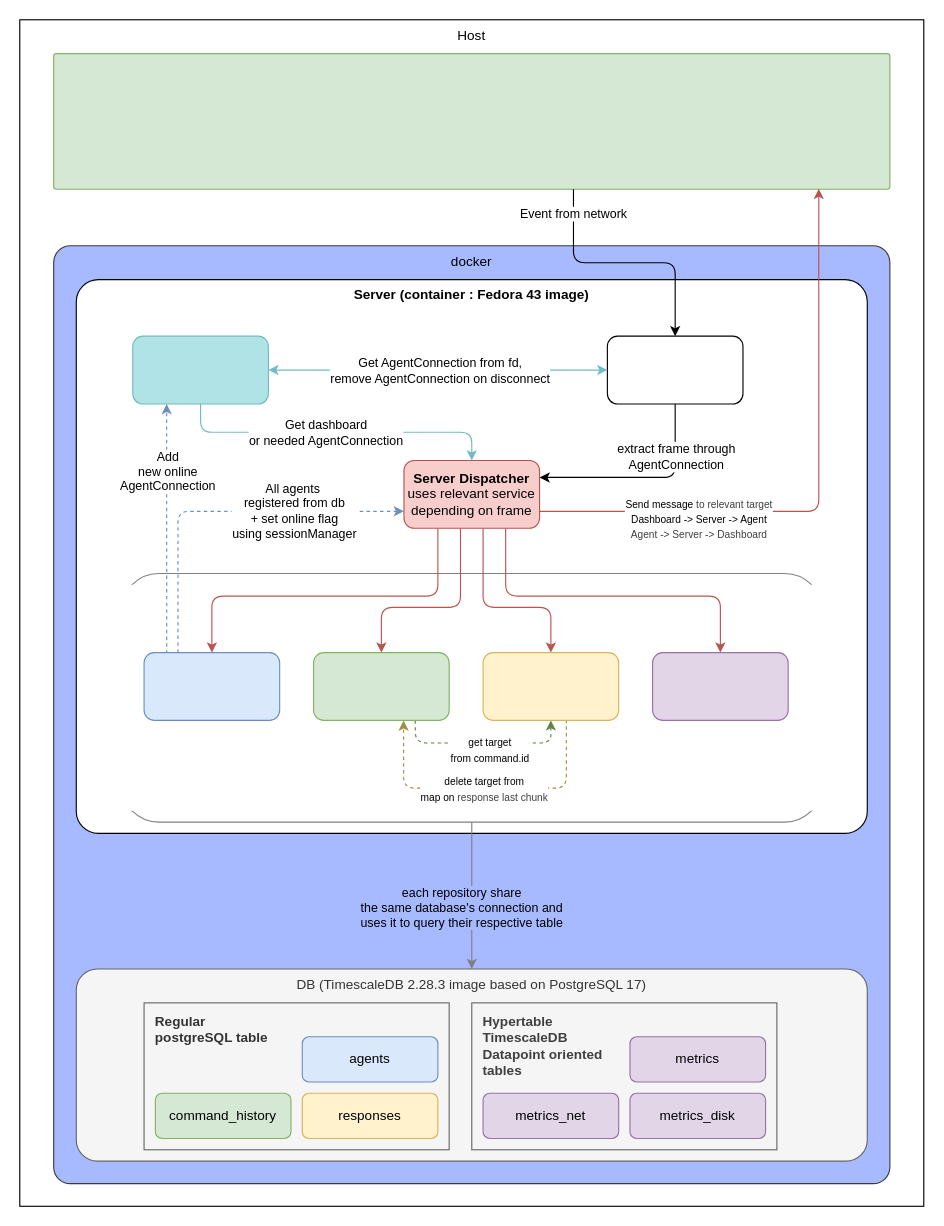
Image size: 944x1226. Some labels were removed from this diagram. Each missing label, with the centre of its shape:
Agent Service & Repository: the point at 211,685
Command Service & Repository (save target by command id): the point at 380,685
Metrics Service & Repository: the point at 719,685
Qt or Agent: the point at 471,121
reactor (epoller): the point at 674,369
Response Service & Repository: the point at 550,685
Session Manager (Handle online AgentConnection + identify dashboard): the point at 200,369
